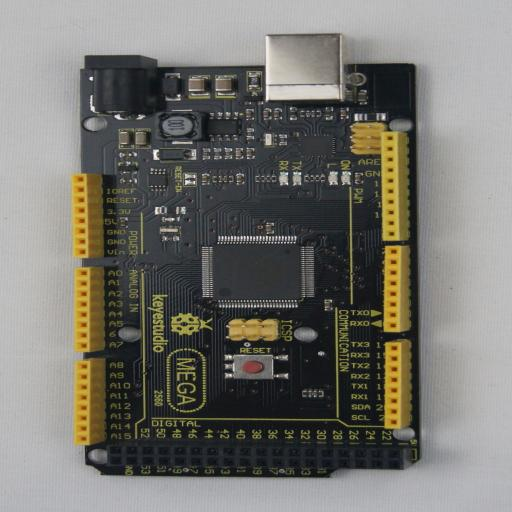Arduino Mega 2560 -Black and Yellow-: (78, 34, 421, 478)
